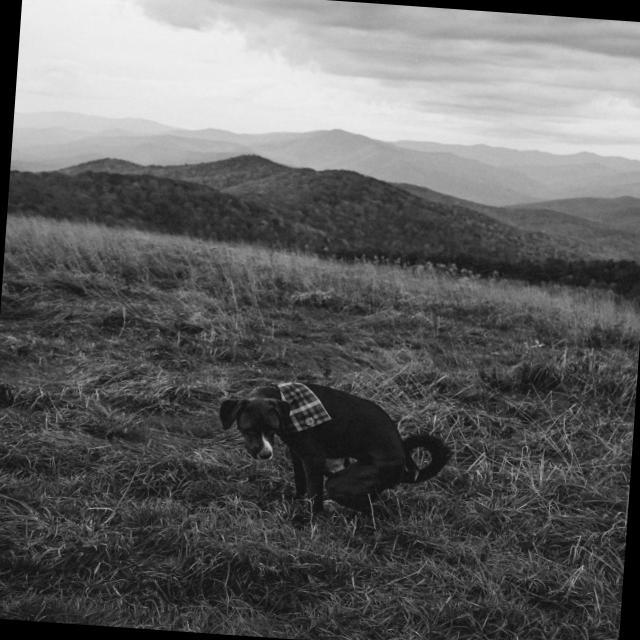squatting: (208, 365, 456, 537)
